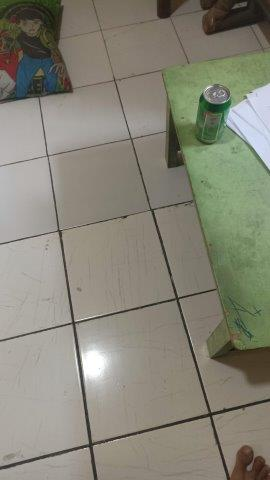kaleng: (196, 83, 231, 145)
kertas: (227, 82, 270, 167)
